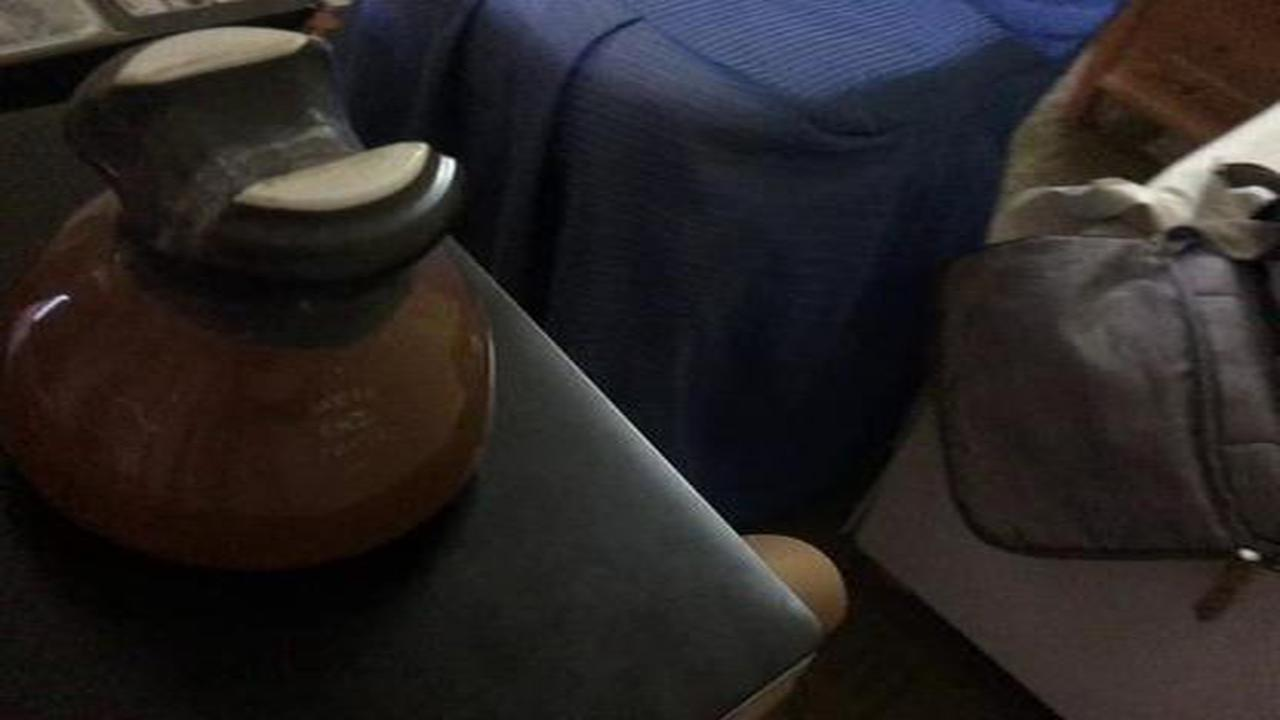insulator_pin: (6, 23, 511, 599)
